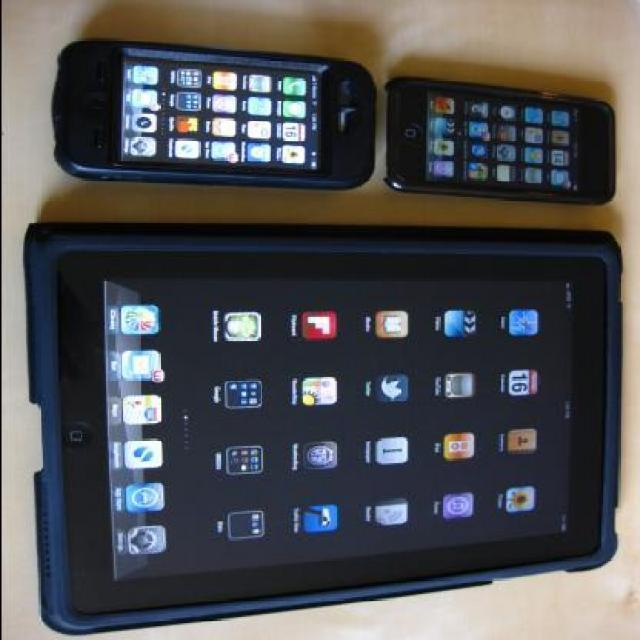phone: (54, 35, 374, 183), (384, 77, 616, 209)
